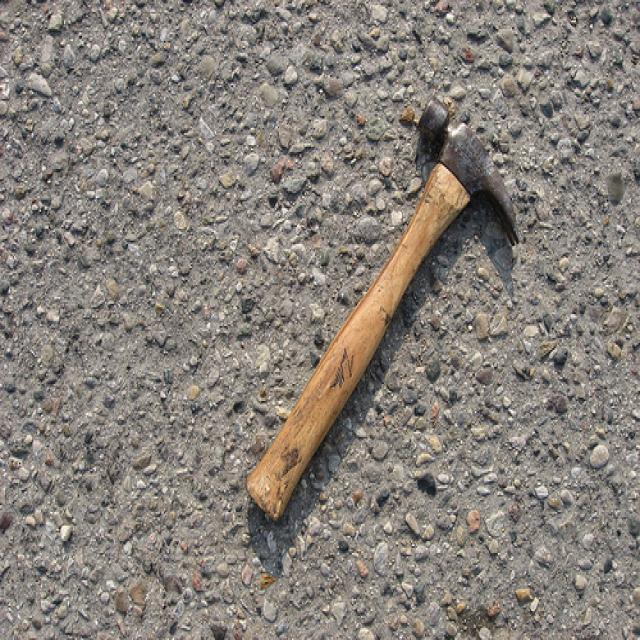hammer: (228, 92, 530, 532)
